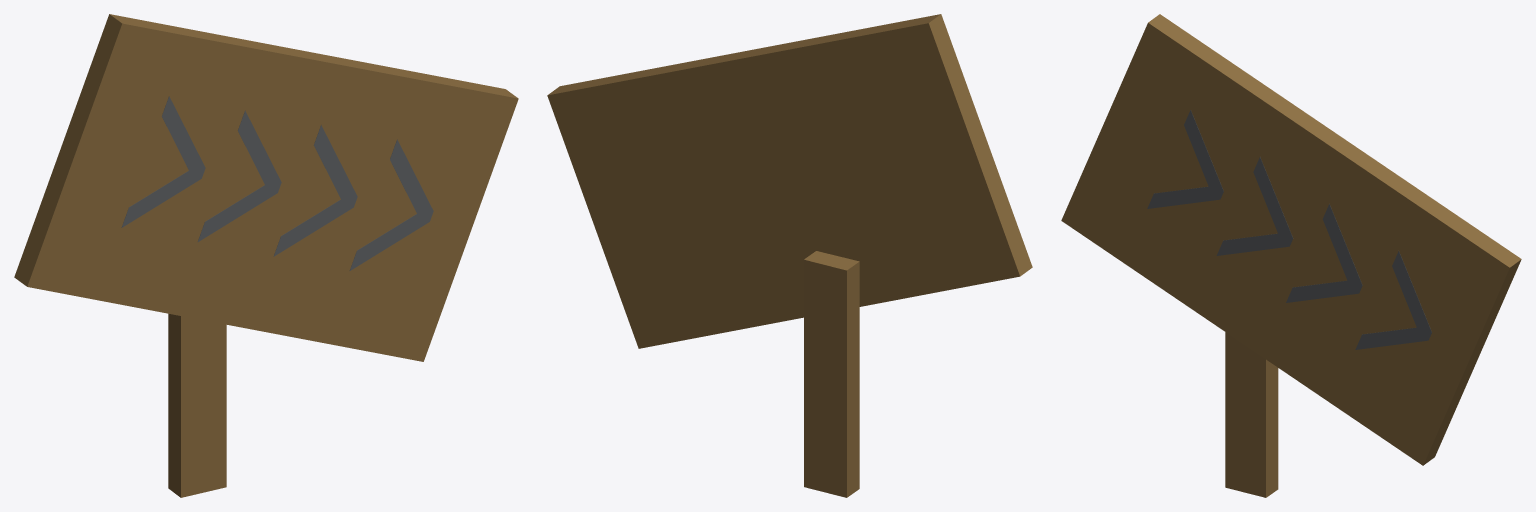
Rendered from Bodacious Trug-Kup.glb.
3 renders of one model, left to right at view 1: azimuth 30°, elevation 25°; view 2: azimuth 150°, elevation 25°; view 3: azimuth 330°, elevation 25°, orthographic. The views are drawn at different scales.
Visible parts, largest first — view 1: Mesh_Mesh_head_geo.001_lambert2SG.001; view 2: Mesh_Mesh_head_geo.001_lambert2SG.001; view 3: Mesh_Mesh_head_geo.001_lambert2SG.001.
Part boxes in pixels (box(x1,y1,x2,y2)): Mesh_Mesh_head_geo.001_lambert2SG.001: box(14, 14, 518, 497); Mesh_Mesh_head_geo.001_lambert2SG.001: box(547, 14, 1032, 497); Mesh_Mesh_head_geo.001_lambert2SG.001: box(1061, 14, 1521, 497).
Bounding box in the file's own units: 0.0218 × 0.0212 × 0.00201.
